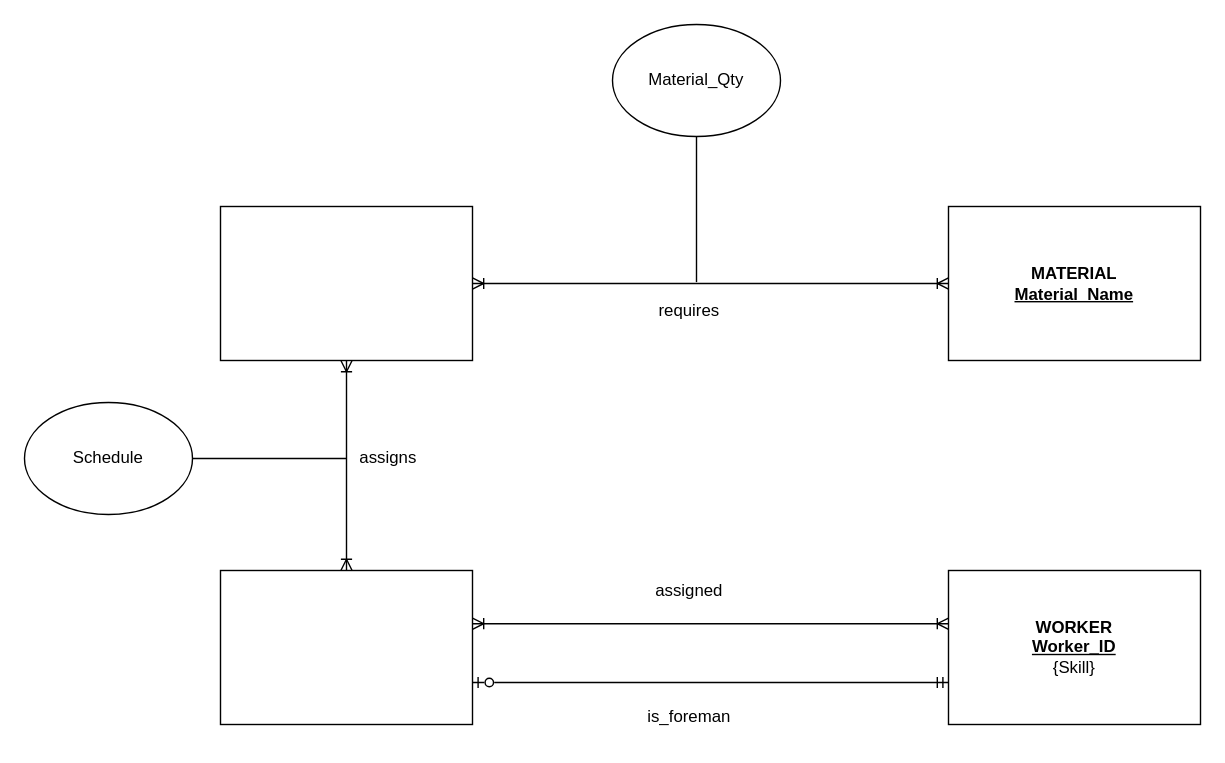
Some shapes in this 1225 by 763 pixel diagram are drawn without their labels. The centre of each missing label's shape, as x and y in pixels:
"BUILDING Building_ID Building_Requirements Building_Size" belongs at point (345, 282).
"CREW Crew_ID Crew_Type Crew_Size" belongs at point (345, 646).
